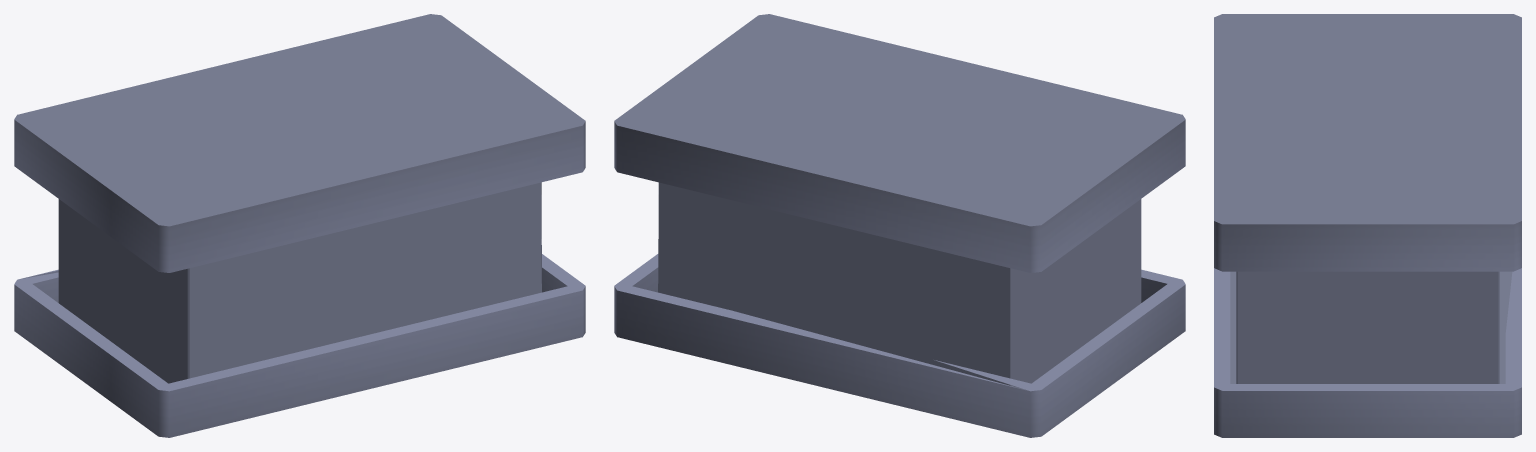
File: Stone_Coffin.obj
3 views of the same model, side by side, from view 1: azimuth 30°, elevation 25°; view 2: azimuth 150°, elevation 25°; view 3: azimuth 270°, elevation 25° (orthographic).
Parts seen in each view (by area): view 1: Stone_Coffin_1; view 2: Stone_Coffin_1; view 3: Stone_Coffin_1.
Boxes of the visible parts, box(x1,y1,x2,y2) form: Stone_Coffin_1: box(14, 14, 585, 437); Stone_Coffin_1: box(614, 14, 1185, 437); Stone_Coffin_1: box(1214, 14, 1521, 437).
Bounding box in the file's own units: 1.06 × 0.5001 × 0.6532.
